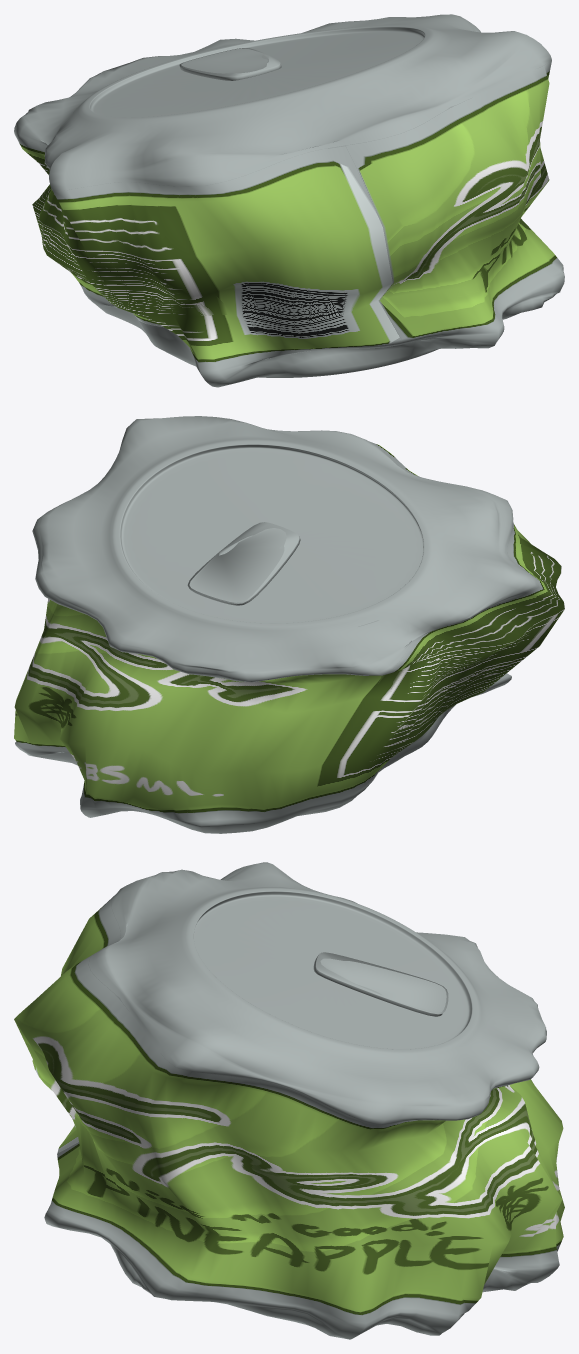
File: Lata_3.fbx
3 renders of one model, top to bottom at view 1: azimuth 30°, elevation 25°; view 2: azimuth 150°, elevation 25°; view 3: azimuth 270°, elevation 25°, orthographic. The views are drawn at different scales.
Parts seen in each view (by area): view 1: Lata_3; view 2: Lata_3; view 3: Lata_3.
Boxes of the visible parts, x1,y1,x2,y2 form: Lata_3: [14, 14, 564, 387]; Lata_3: [14, 416, 564, 833]; Lata_3: [14, 862, 564, 1339].
Size of the model in its own units: 104 by 60.09 by 95.16.
